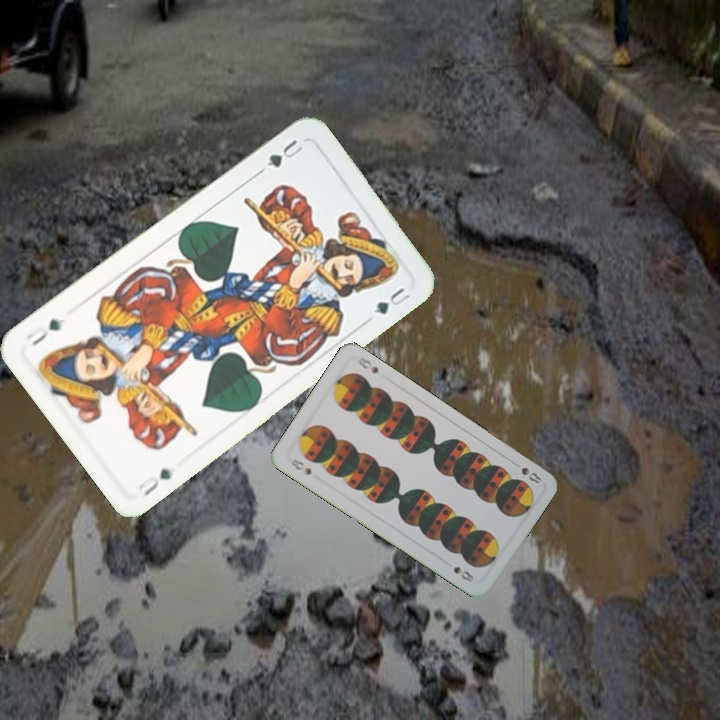GU: (262, 135, 306, 170), (134, 464, 176, 499)
S8: (286, 455, 314, 478), (517, 463, 544, 486)
